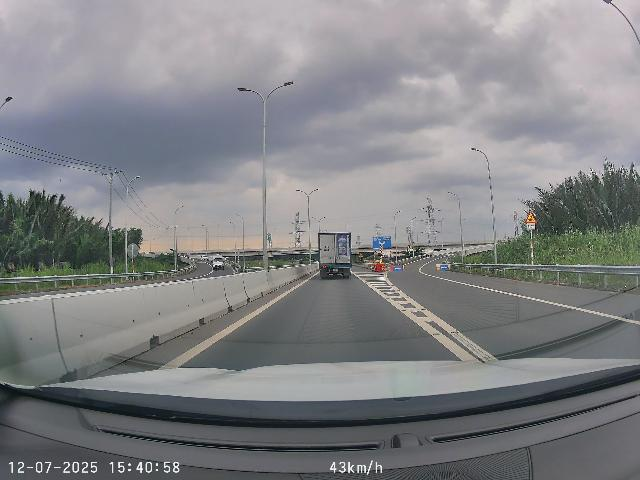245-di-cham: (525, 211, 537, 224)
